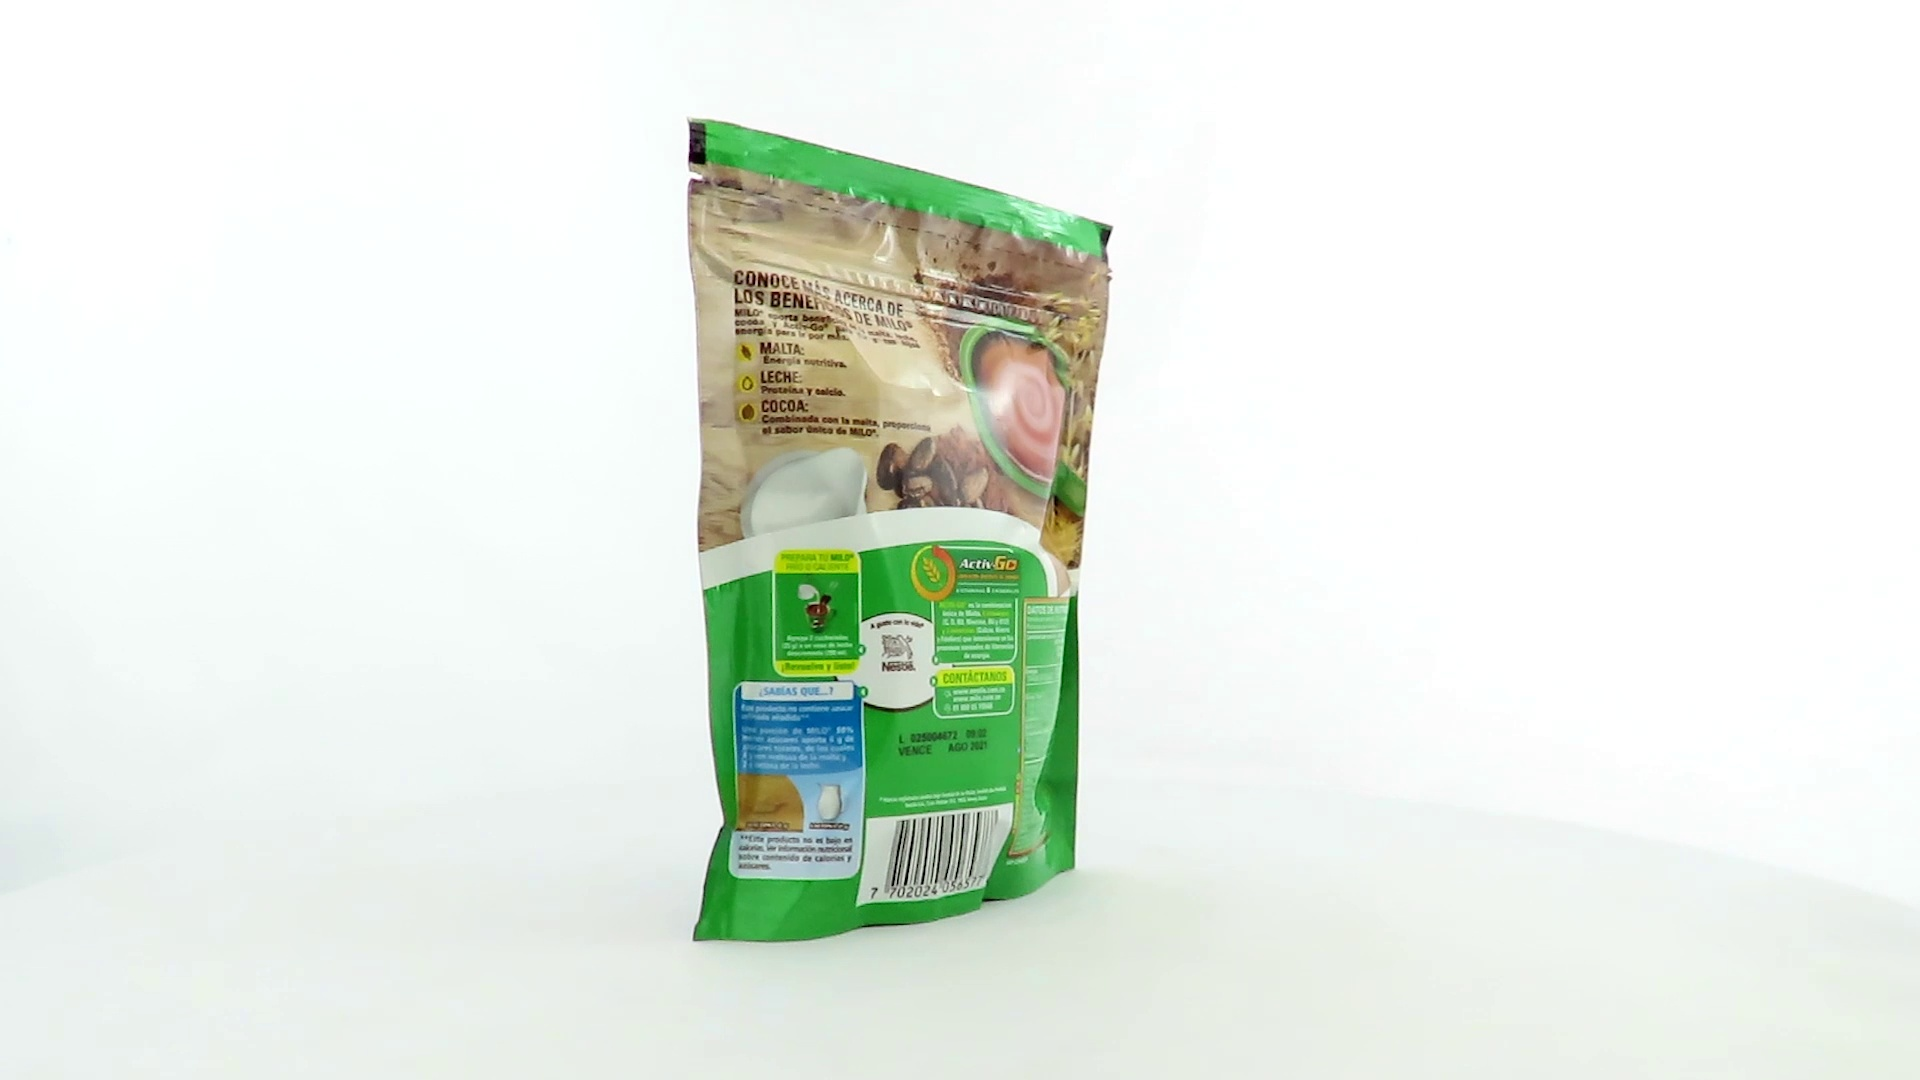COL0170205DYP20000: (680, 112, 1120, 949)
